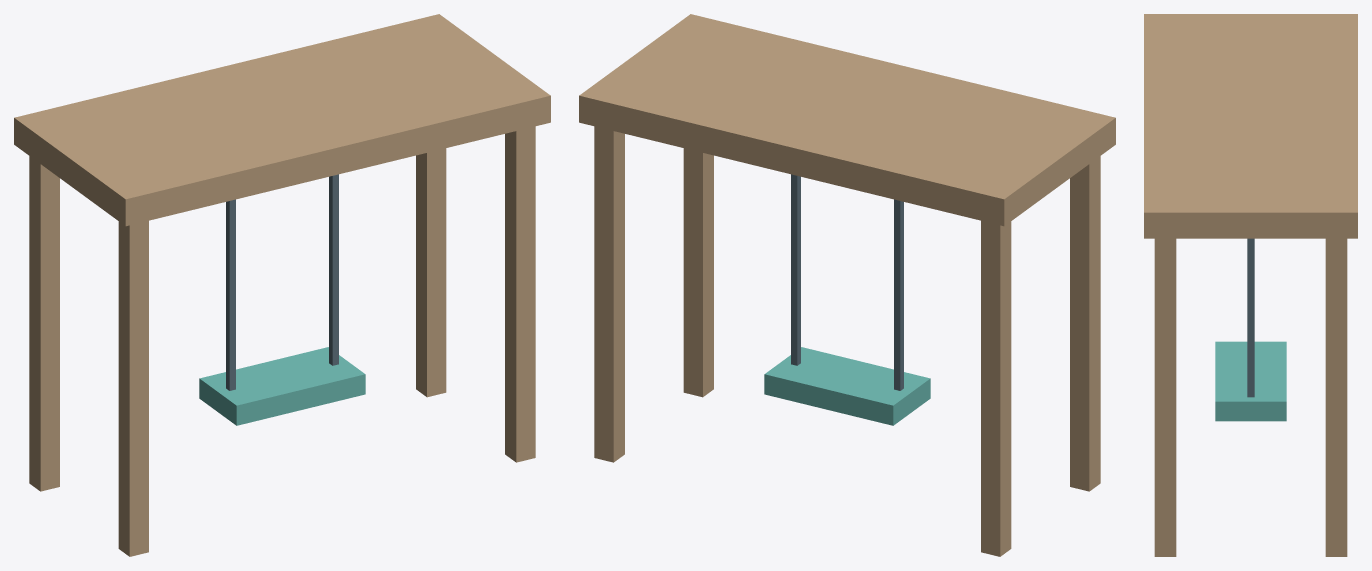
Rendered from voxel-city-districts-swing-frame-f90946a6__24867.glb.
The picture shows the model from 3 angles, left to right: view 1: azimuth 30°, elevation 25°; view 2: azimuth 150°, elevation 25°; view 3: azimuth 270°, elevation 25°; orthographic projection. The views are drawn at different scales.
Parts seen in each view (by area): view 1: swing-frame-wood, swing-frame-accent, swing-frame-dark; view 2: swing-frame-wood, swing-frame-accent, swing-frame-dark; view 3: swing-frame-wood, swing-frame-accent, swing-frame-dark.
Part boxes in pixels (x1,y1,x2,y2): swing-frame-wood: (14,14,550,556); swing-frame-accent: (199,347,365,425); swing-frame-dark: (226,174,338,390); swing-frame-wood: (579,14,1115,556); swing-frame-accent: (764,347,930,425); swing-frame-dark: (791,174,903,390); swing-frame-wood: (1144,14,1357,556); swing-frame-accent: (1215,341,1286,421); swing-frame-dark: (1247,238,1254,397).
Size of the model in its own units: 3.3 by 2.7 by 1.5.
